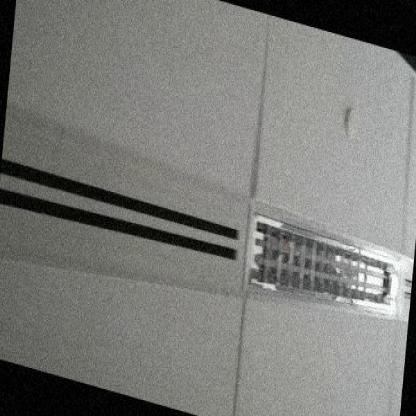light_off: (236, 180, 407, 342)
